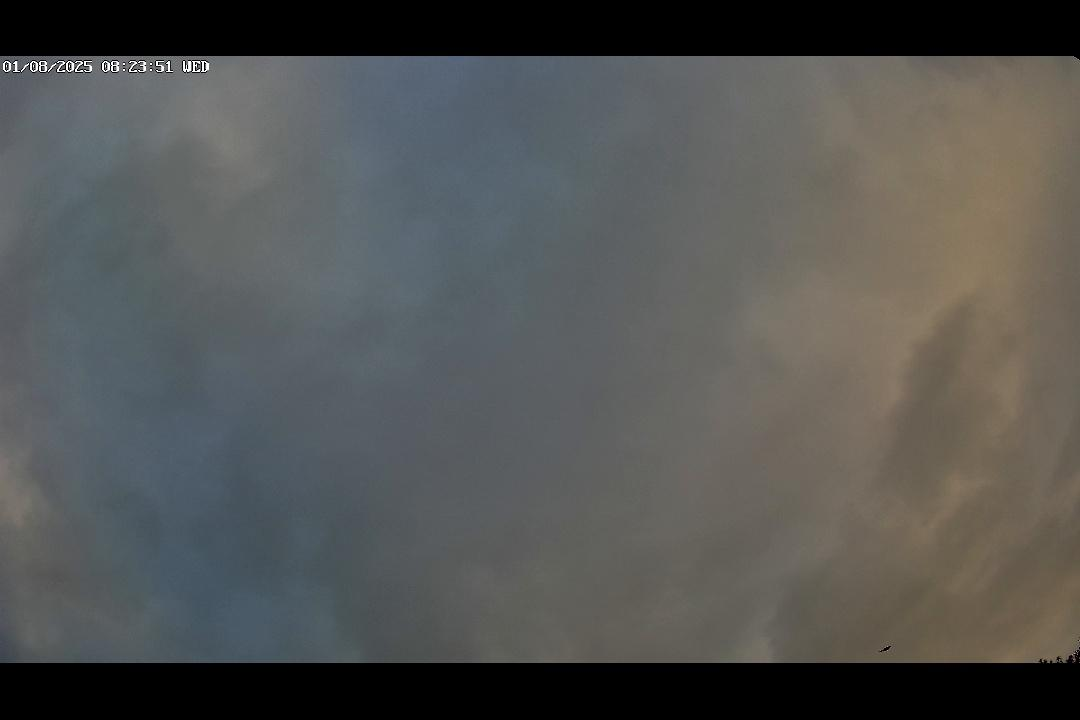WildLife: (867, 638, 907, 659)
